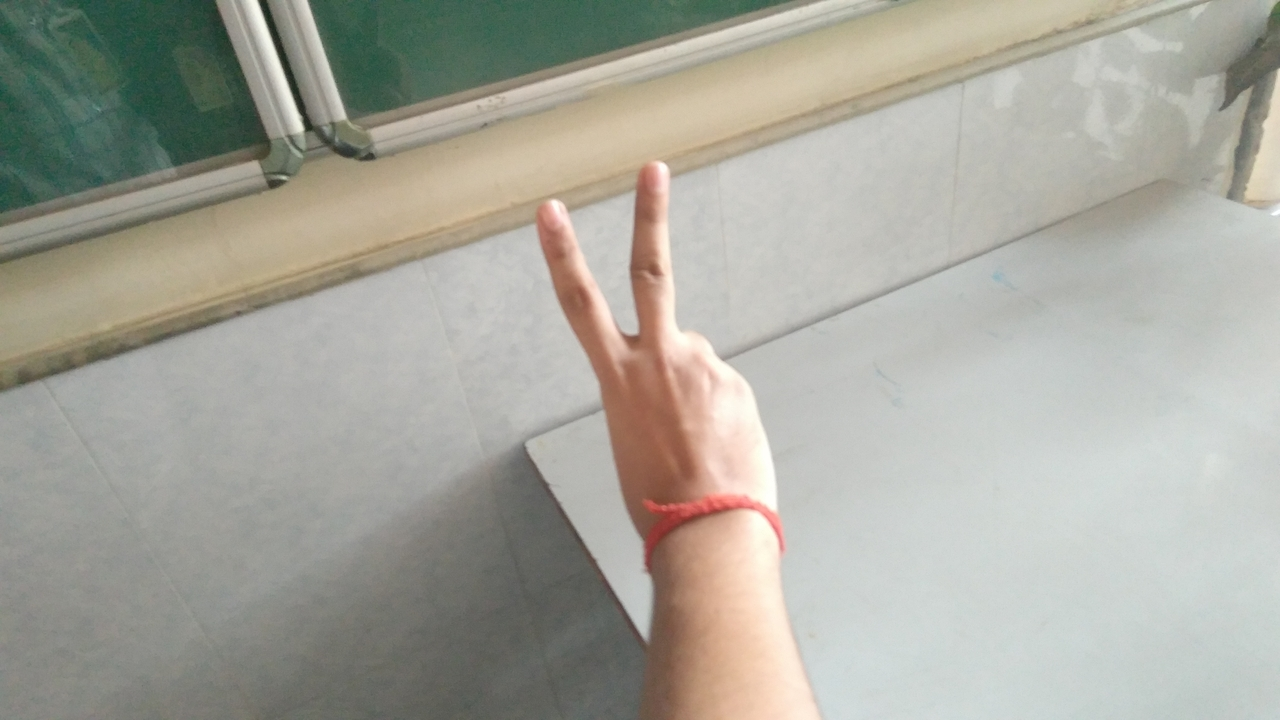fingertip: (522, 182, 580, 238), (624, 146, 680, 196)
